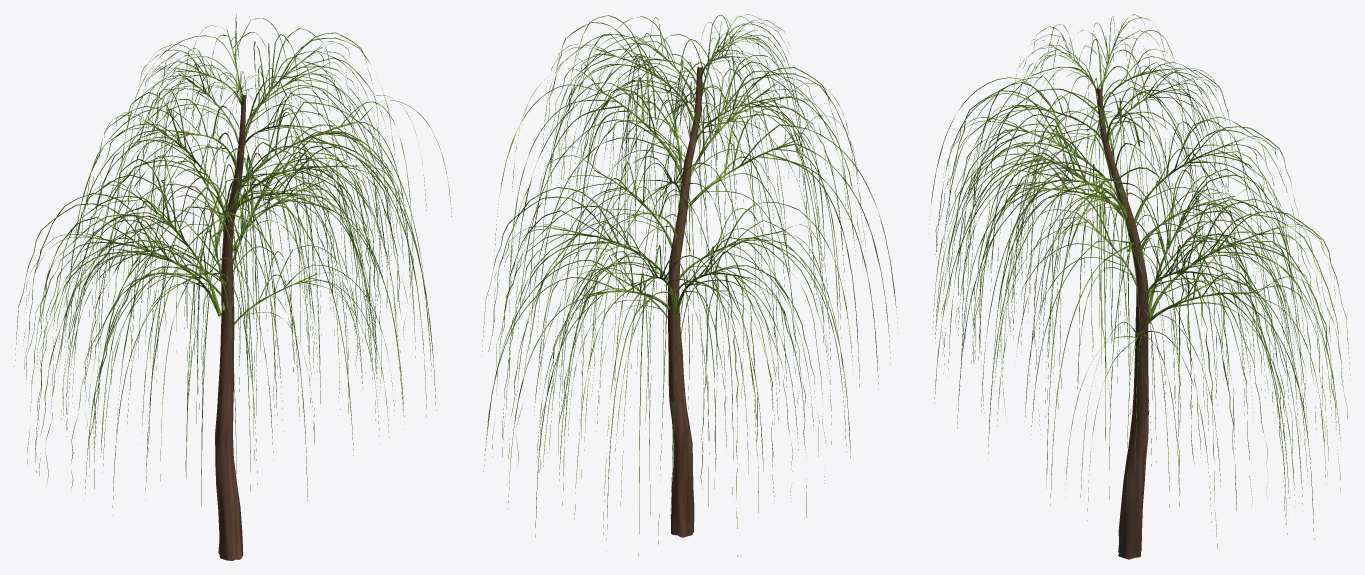
Rendered from cay-duong-01.glb.
The picture shows the model from 3 angles, left to right: view 1: azimuth 30°, elevation 25°; view 2: azimuth 150°, elevation 25°; view 3: azimuth 270°, elevation 25°; orthographic projection. The views are drawn at different scales.
Size of the model in its own units: 7.06 by 9.88 by 7.38.
Materials: 1 (1 with a texture image).
